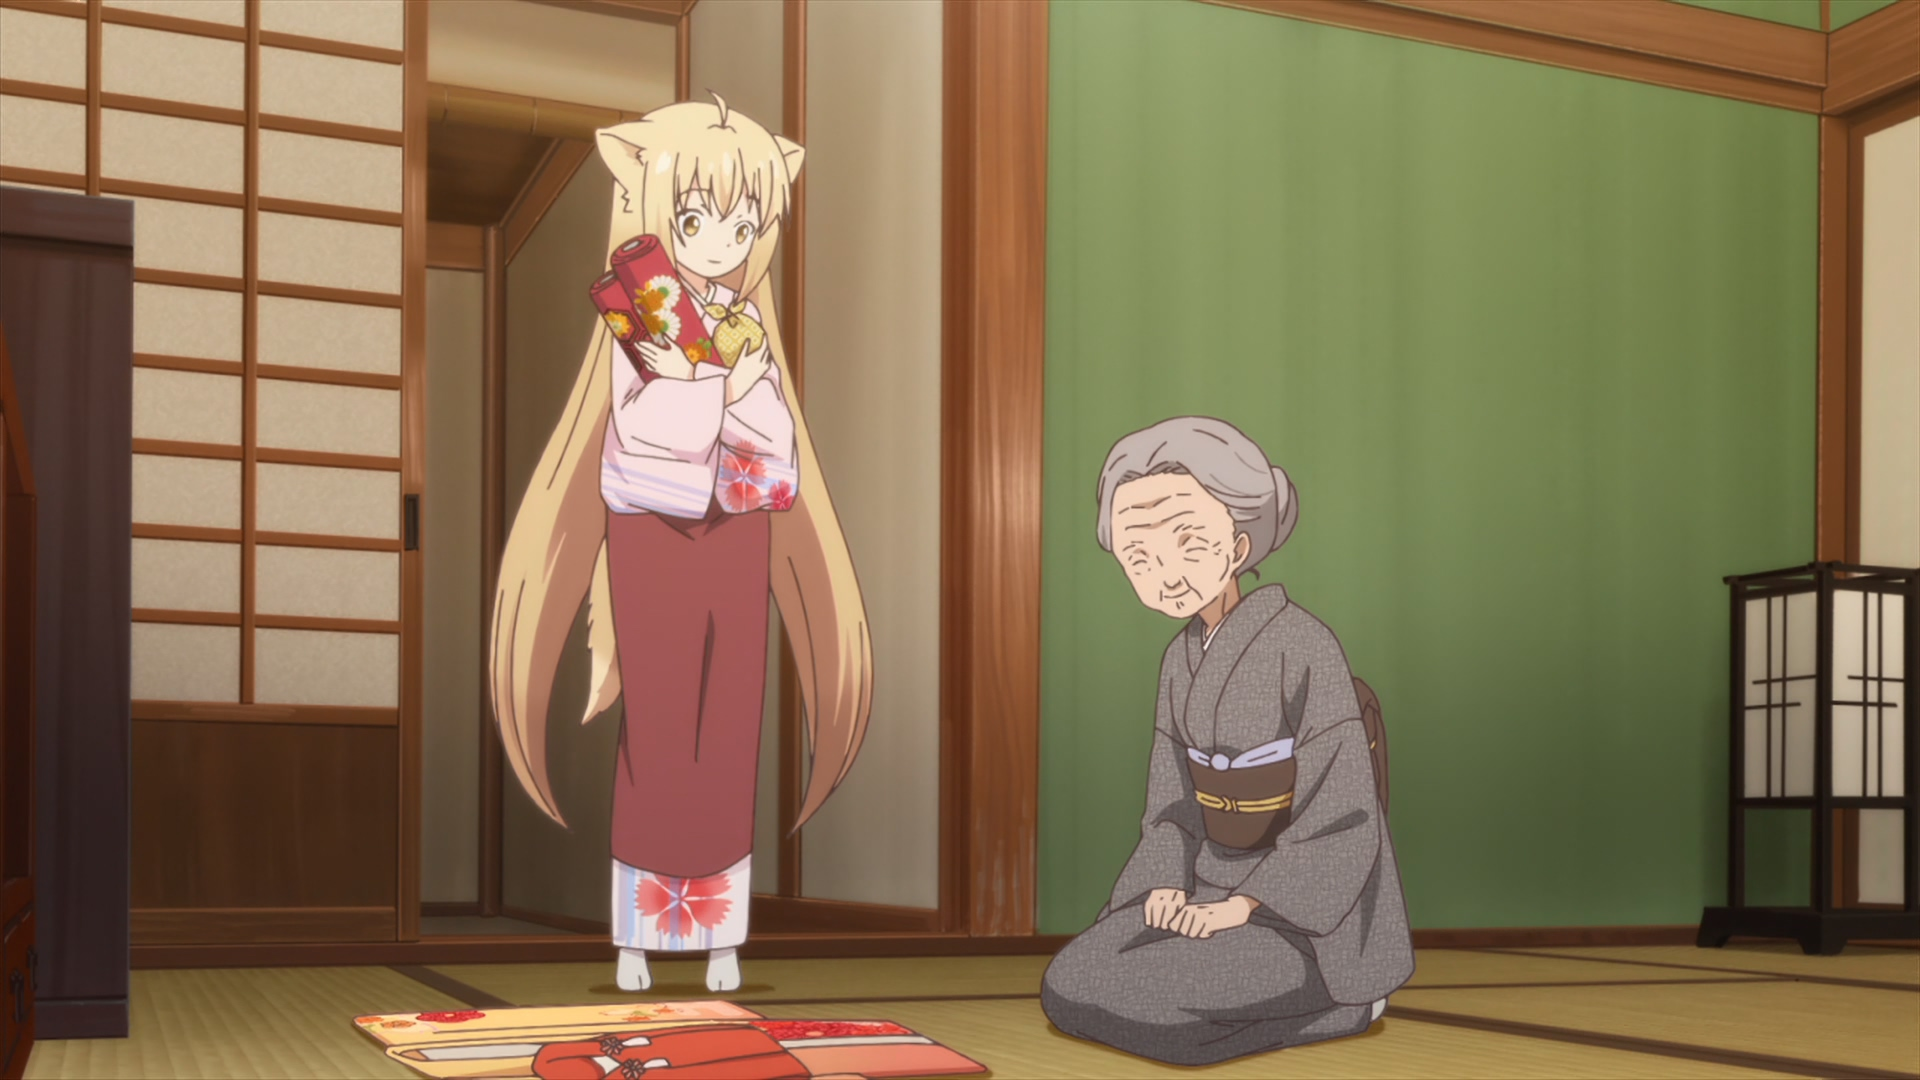其他: (1038, 419, 1418, 1072)
柚: (491, 91, 880, 997)
